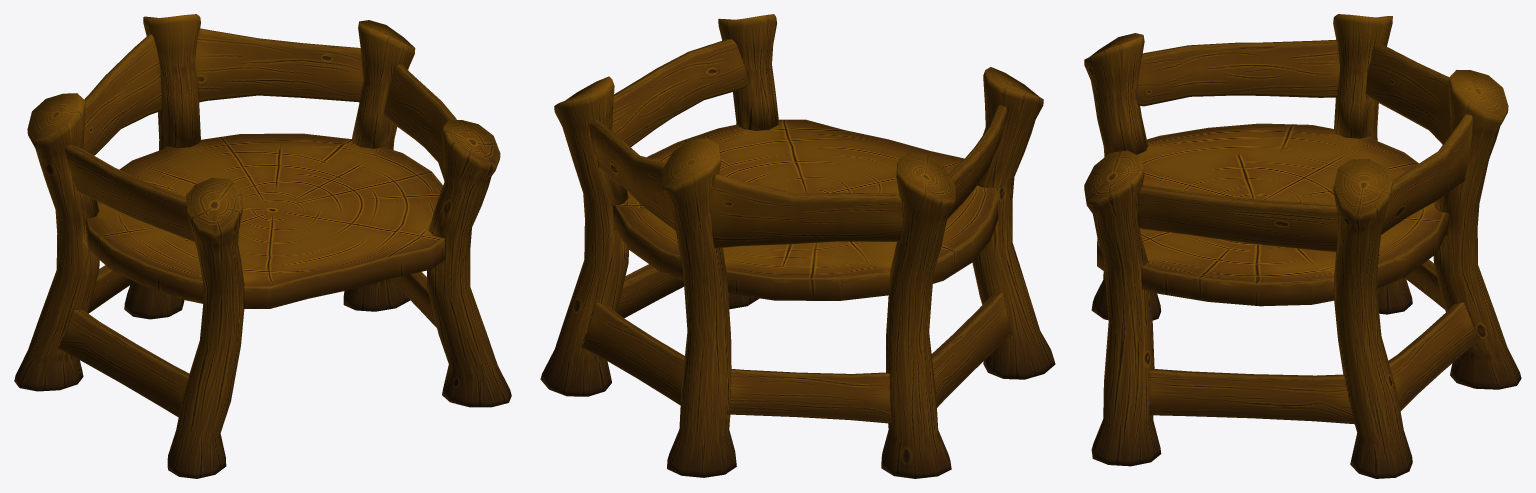
File: Chair 2.fbx
The picture shows the model from 3 angles, left to right: view 1: azimuth 30°, elevation 25°; view 2: azimuth 150°, elevation 25°; view 3: azimuth 270°, elevation 25°; orthographic projection. The views are drawn at different scales.
Visible parts, largest first — view 1: Chair 2; view 2: Chair 2; view 3: Chair 2.
Boxes of the visible parts, x1,y1,x2,y2 form: Chair 2: [14, 14, 511, 478]; Chair 2: [540, 14, 1055, 478]; Chair 2: [1084, 14, 1521, 478].
Size of the model in its own units: 117 by 85.8 by 110.
